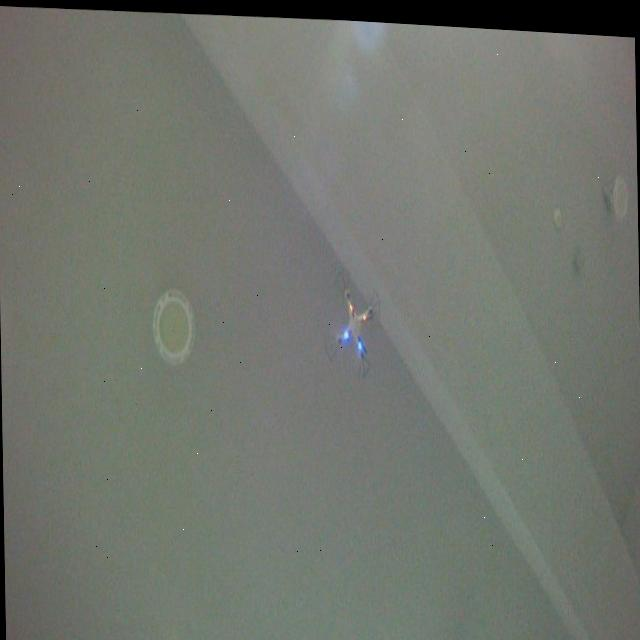drone: (320, 258, 384, 379)
